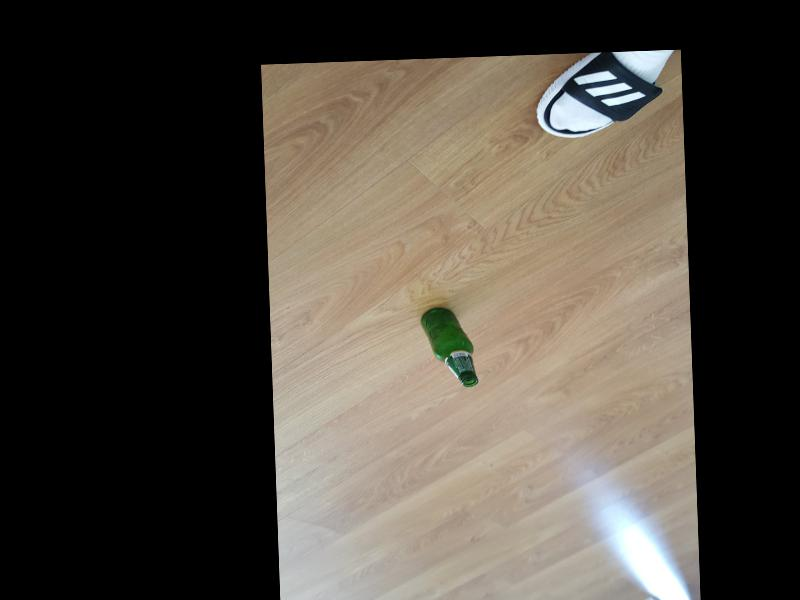Beer: (422, 306, 478, 386)
